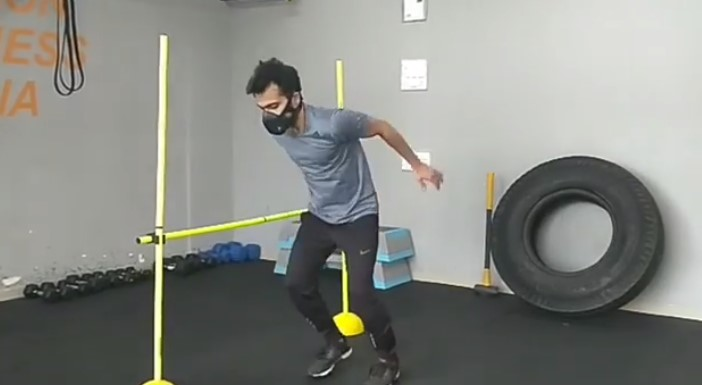face_with_mask: (246, 58, 308, 139)
